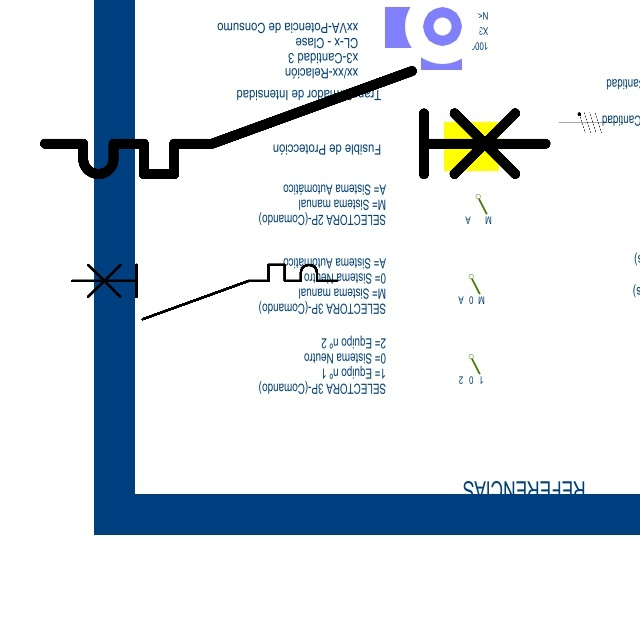interruptor_termomagnetico: (32, 58, 558, 187), (65, 258, 344, 326)
